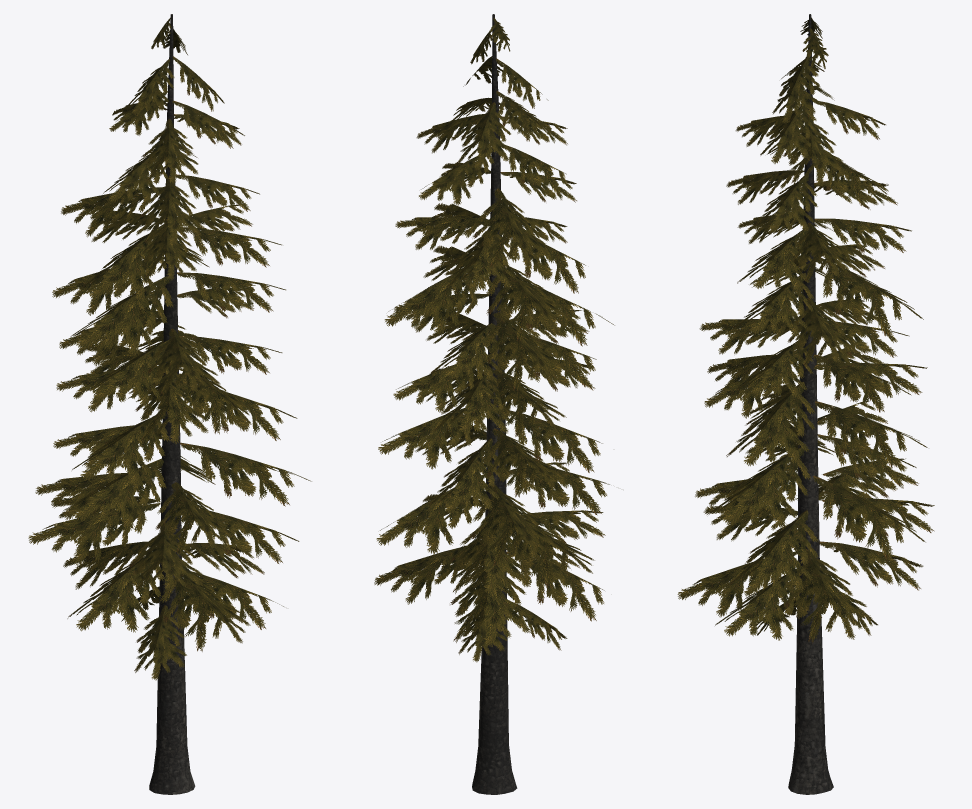
The model's file is pine_tree_n_3_4.obj.
The picture shows the model from 3 angles, left to right: view 1: azimuth 30°, elevation 25°; view 2: azimuth 150°, elevation 25°; view 3: azimuth 270°, elevation 25°; orthographic projection.
Visible parts, largest first — view 1: pine_tree_n_3_4_branches, pine_tree_n_3_4; view 2: pine_tree_n_3_4_branches, pine_tree_n_3_4; view 3: pine_tree_n_3_4_branches, pine_tree_n_3_4.
Part boxes in pixels (x1=…): pine_tree_n_3_4_branches: x1=28, y1=17, x2=311, y2=680; pine_tree_n_3_4: x1=149, y1=14, x2=195, y2=794; pine_tree_n_3_4_branches: x1=374, y1=17, x2=614, y2=662; pine_tree_n_3_4: x1=472, y1=14, x2=517, y2=794; pine_tree_n_3_4_branches: x1=677, y1=17, x2=934, y2=643; pine_tree_n_3_4: x1=788, y1=14, x2=833, y2=794.
Bounding box in the file's own units: 1.63 × 4.59 × 1.54.
